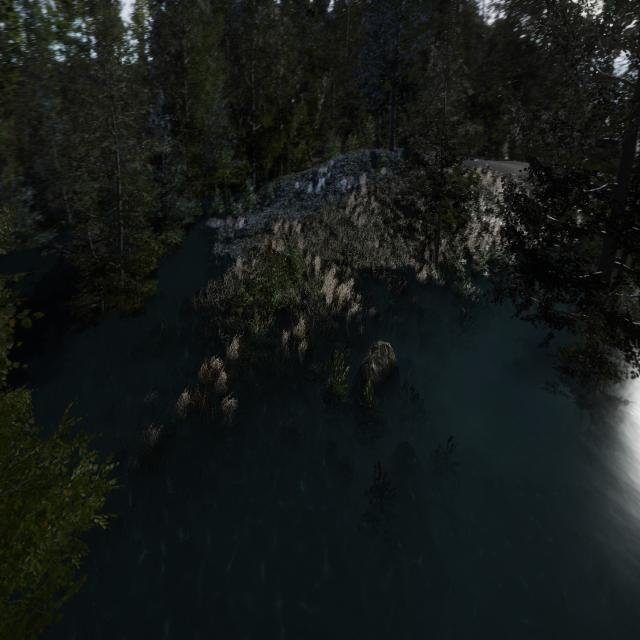Human: (304, 299, 325, 371)
